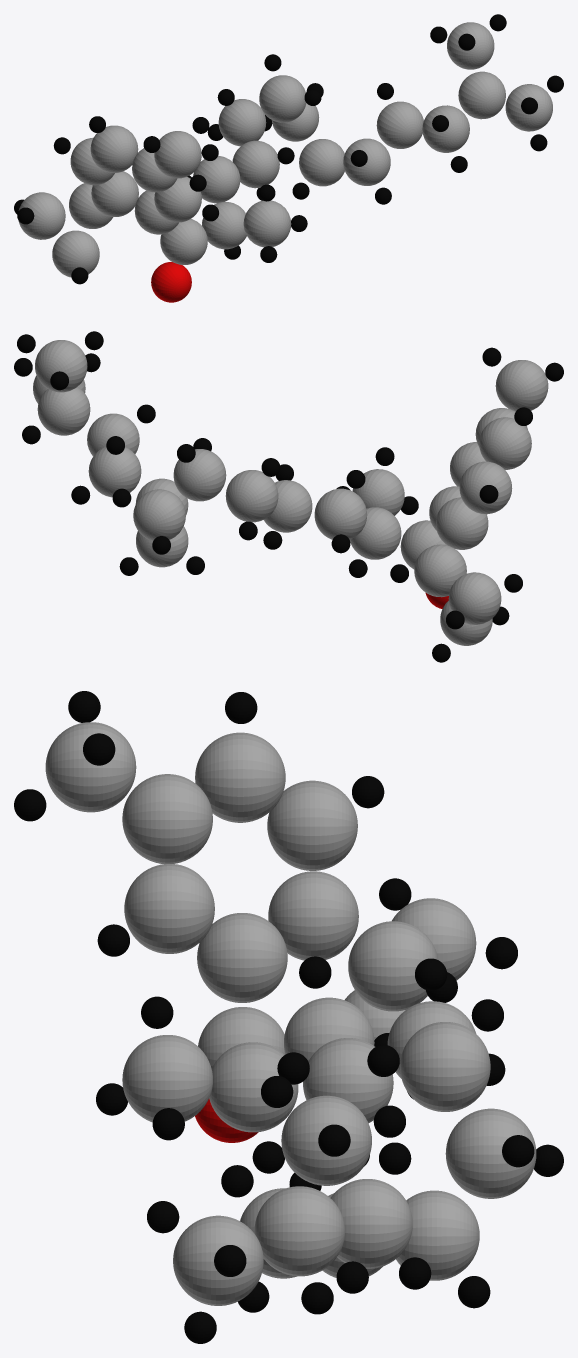
The model's file is Vitamin E.glb.
The picture shows the model from 3 angles, top to bottom: view 1: azimuth 30°, elevation 25°; view 2: azimuth 150°, elevation 25°; view 3: azimuth 270°, elevation 25°; orthographic projection. The views are drawn at different scales.
Visible parts, largest first — view 1: world; view 2: world; view 3: world.
Boxes of the visible parts, x1=… form: world: x1=14, y1=14, x2=563, y2=302; world: x1=14, y1=331, x2=563, y2=662; world: x1=14, y1=691, x2=563, y2=1343.
Bounding box in the file's own units: 17.01 × 6.85 × 8.49.
